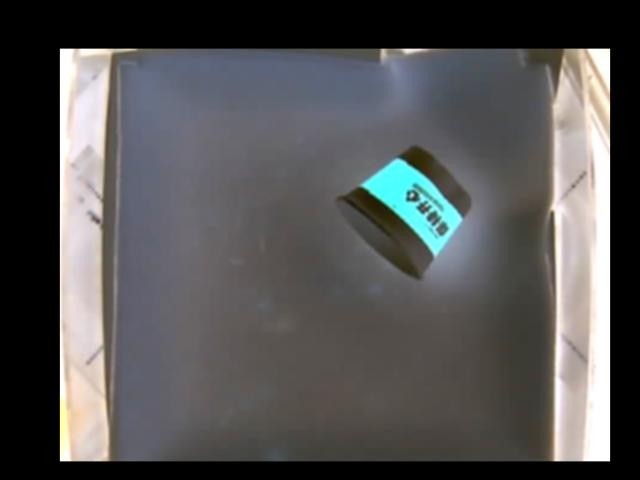Cup: (334, 145, 475, 276)
